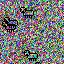sheep: (3, 16, 19, 27), (20, 7, 34, 19), (2, 21, 17, 32), (24, 51, 39, 61)
